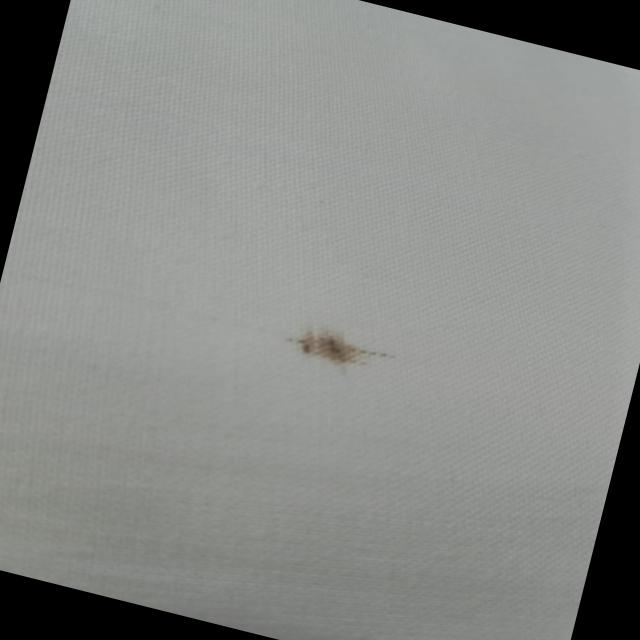stain: (278, 313, 402, 387)
